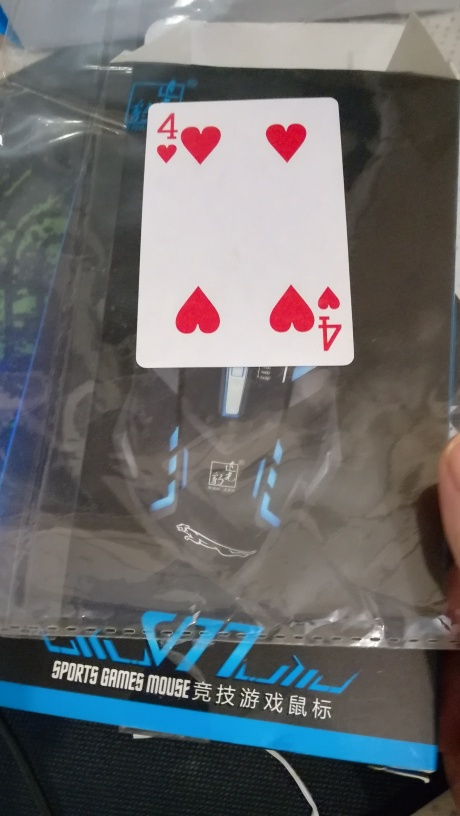hx 4: (138, 96, 360, 376)
